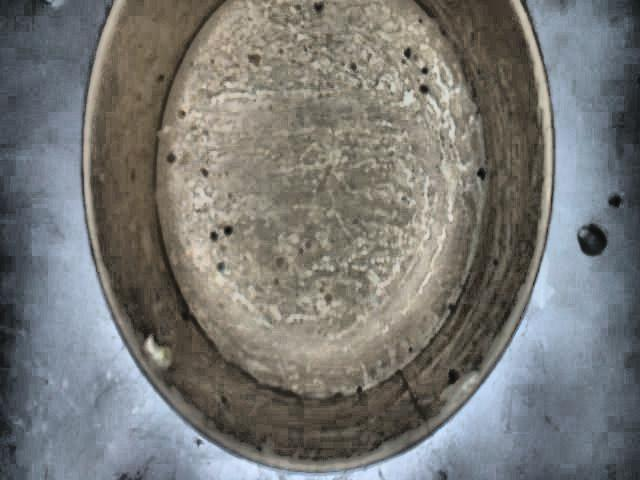Paper: (81, 2, 557, 475)
